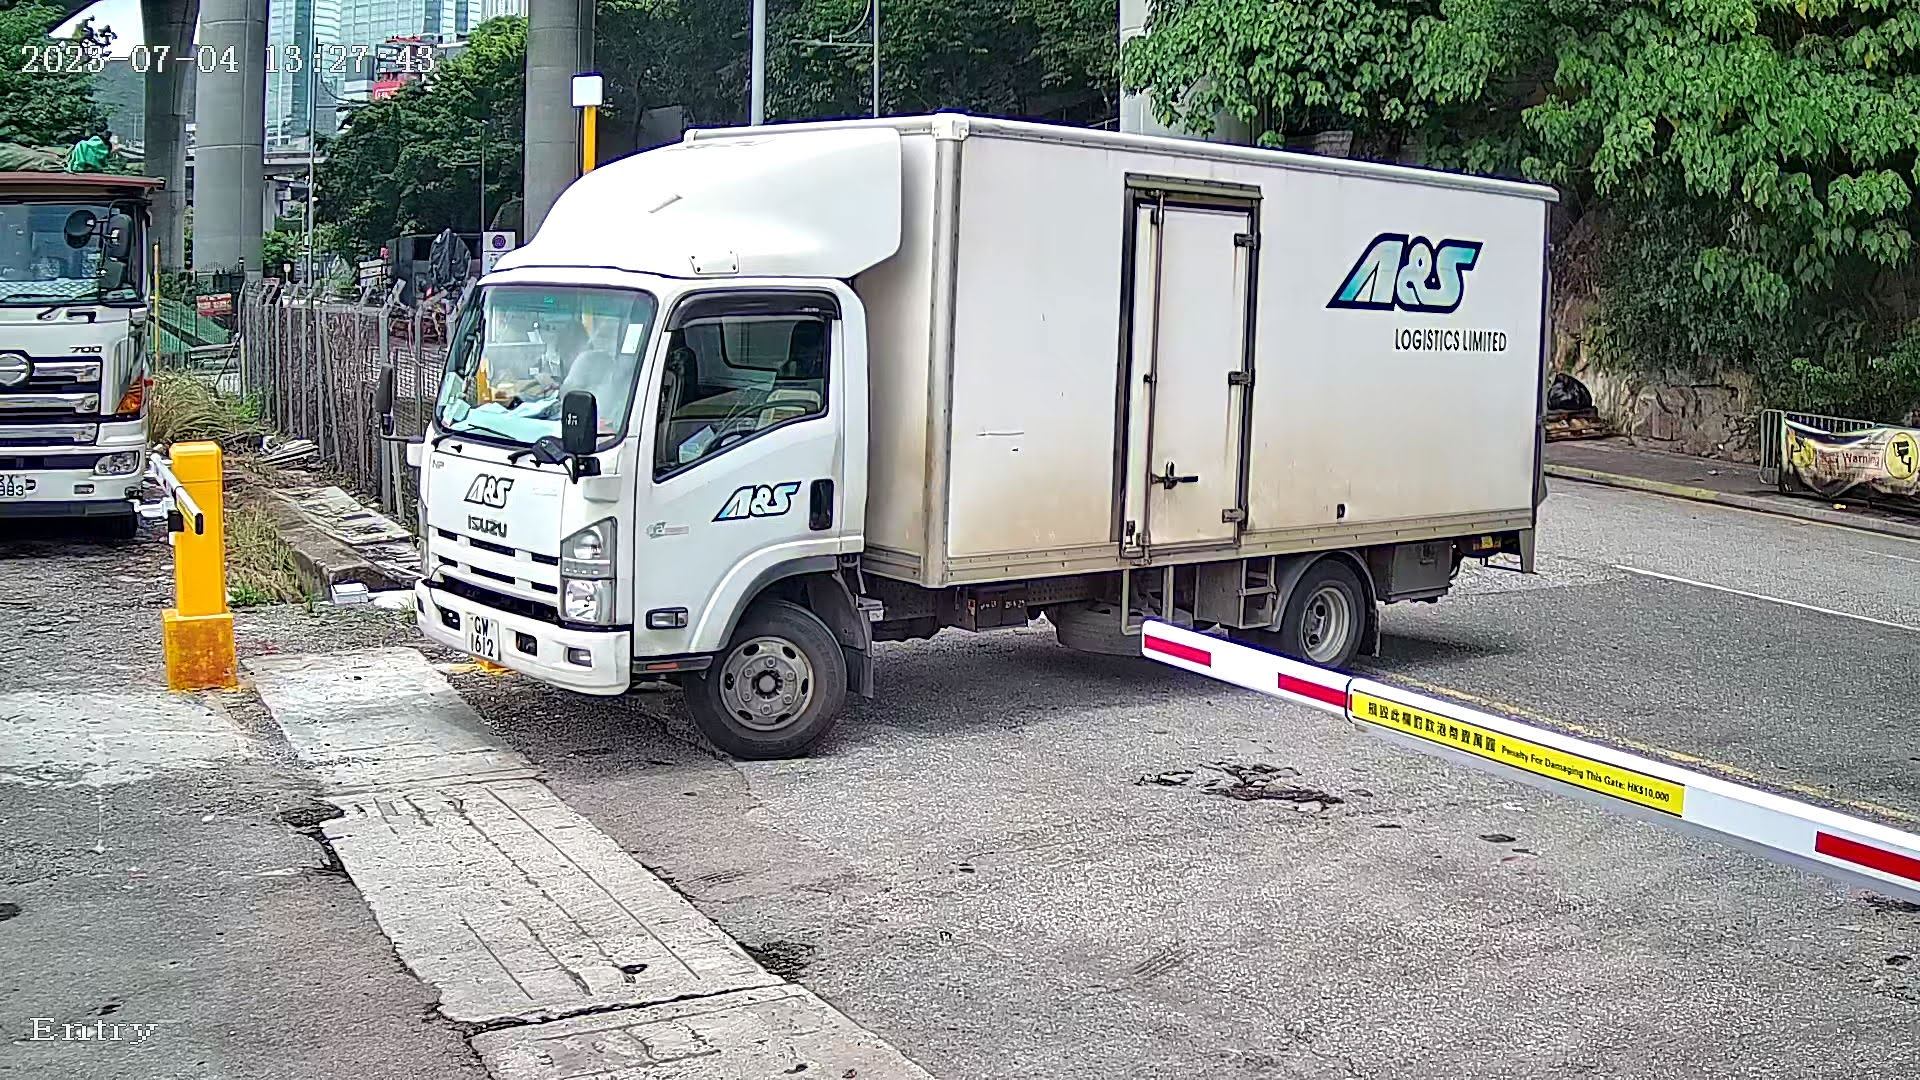truck: (377, 107, 1585, 753)
